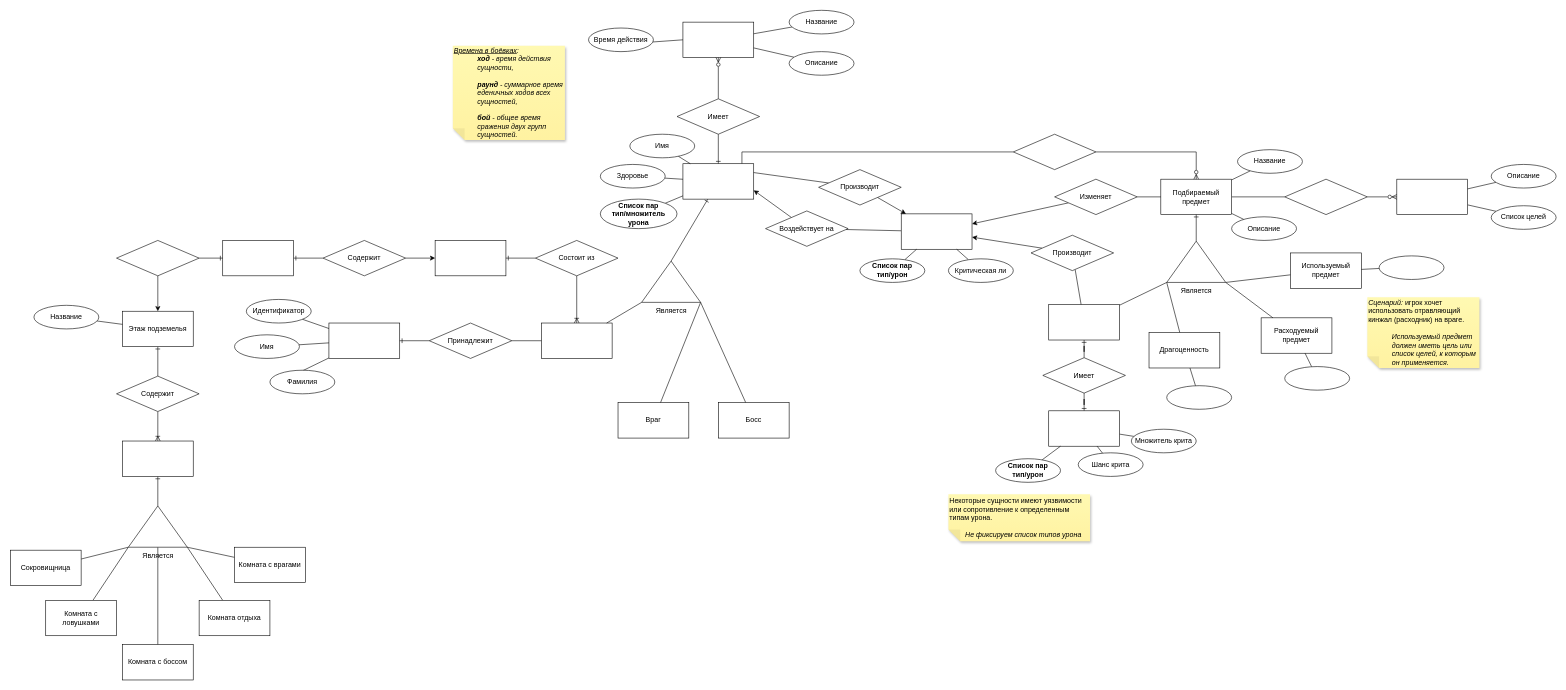
This 1566x690 diagram has some shape labels left out. Here are the shapes that lost their labels. From the top down, the centre of each, then its label:
At (x=718, y=40): "Статус-эффект".
At (x=1054, y=152): "Хранит".
At (x=718, y=181): "Игровая сущность".
At (x=1325, y=197): "Предоставляет".
At (x=1432, y=197): "Вариант действия".
At (x=936, y=231): "Атака".
At (x=157, y=258): "Генерирует".
At (x=258, y=258): "Игровая сессия".
At (x=470, y=258): "Команда игроков".
At (x=1411, y=267): "Использован ли".
At (x=364, y=340): "Пользователь".
At (x=576, y=340): "Игрок".
At (x=1084, y=322): "Оружие".
At (x=1199, y=397): "Стоимость".
At (x=1317, y=378): "Кол-во использований".
At (x=1084, y=428): "Боевые параметры".
At (x=157, y=458): "Комната".
